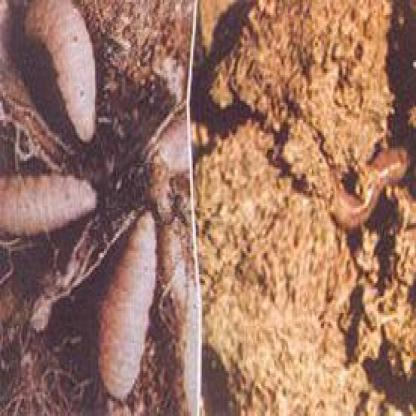whorl-maggot: (90, 206, 165, 411), (21, 6, 108, 144), (7, 167, 103, 238)
